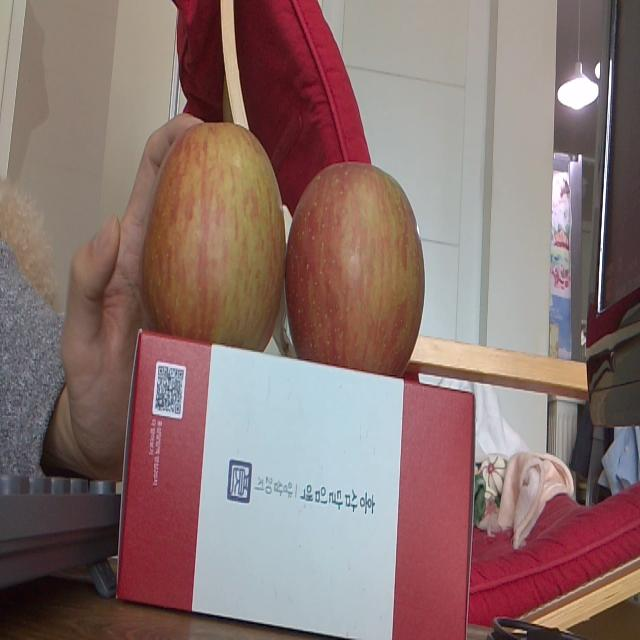apple: (139, 117, 285, 352), (286, 156, 430, 379)
